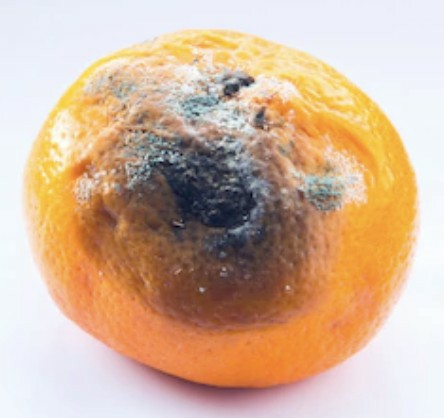rotten_orange: (24, 28, 419, 385)
